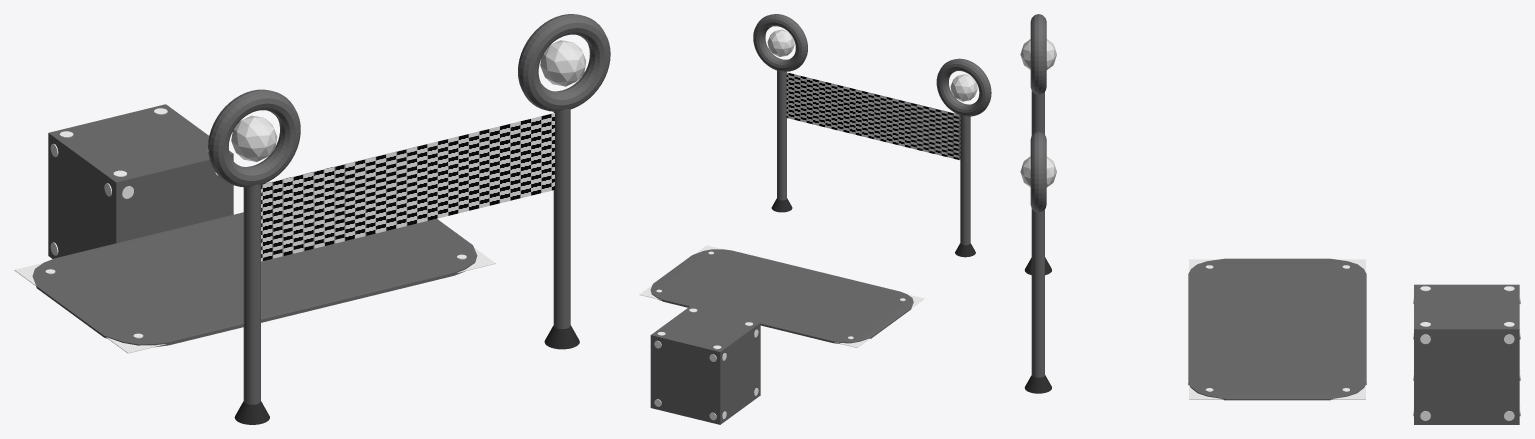
The model's file is RecoilRunnerAssets.fbx.
3 renders of one model, left to right at view 1: azimuth 30°, elevation 25°; view 2: azimuth 150°, elevation 25°; view 3: azimuth 270°, elevation 25°, orthographic. The views are drawn at different scales.
Visible parts, largest first — view 1: Cube, Plane, Cube.001, Torus.001, Torus, Cylinder.017, Cylinder, Icosphere.001, Icosphere, Cube.002, Cone.001, Cone; view 2: Cube, Cube.001, Plane, Torus, Torus.001, Cylinder.017, Cylinder, Icosphere.001, Icosphere, Cube.002; view 3: Cube, Cube.001, Cylinder, Torus, Torus.001, Cube.002, Cylinder.017, Icosphere, Icosphere.001.
Boxes of the visible parts, bbox=[...] form: Cube: bbox=[32, 212, 477, 347]; Plane: bbox=[261, 113, 554, 261]; Cube.001: bbox=[48, 104, 233, 258]; Torus.001: bbox=[208, 89, 300, 187]; Torus: bbox=[518, 14, 610, 111]; Cylinder.017: bbox=[243, 184, 260, 404]; Cylinder: bbox=[553, 109, 570, 328]; Icosphere.001: bbox=[231, 115, 277, 161]; Icosphere: bbox=[540, 40, 586, 86]; Cube.002: bbox=[14, 247, 495, 353]; Cone.001: bbox=[234, 401, 269, 424]; Cone: bbox=[544, 325, 579, 349]; Cube: bbox=[650, 249, 913, 343]; Cube.001: bbox=[650, 306, 760, 424]; Plane: bbox=[786, 72, 960, 160]; Torus: bbox=[753, 14, 807, 71]; Torus.001: bbox=[936, 58, 991, 116]; Cylinder.017: bbox=[960, 115, 970, 245]; Cylinder: bbox=[777, 70, 786, 200]; Icosphere.001: bbox=[950, 74, 977, 101]; Icosphere: bbox=[767, 29, 794, 56]; Cube.002: bbox=[639, 245, 924, 347]; Cube: bbox=[1188, 258, 1366, 400]; Cube.001: bbox=[1414, 284, 1519, 424]; Cylinder: bbox=[1031, 209, 1044, 377]; Torus: bbox=[1030, 131, 1046, 212]; Torus.001: bbox=[1030, 14, 1046, 94]; Cube.002: bbox=[1189, 259, 1365, 399]; Cylinder.017: bbox=[1031, 91, 1044, 135]; Icosphere: bbox=[1020, 156, 1056, 187]; Icosphere.001: bbox=[1020, 39, 1056, 69].
Bounding box in the file's own units: 3079 × 3067 × 4286.
